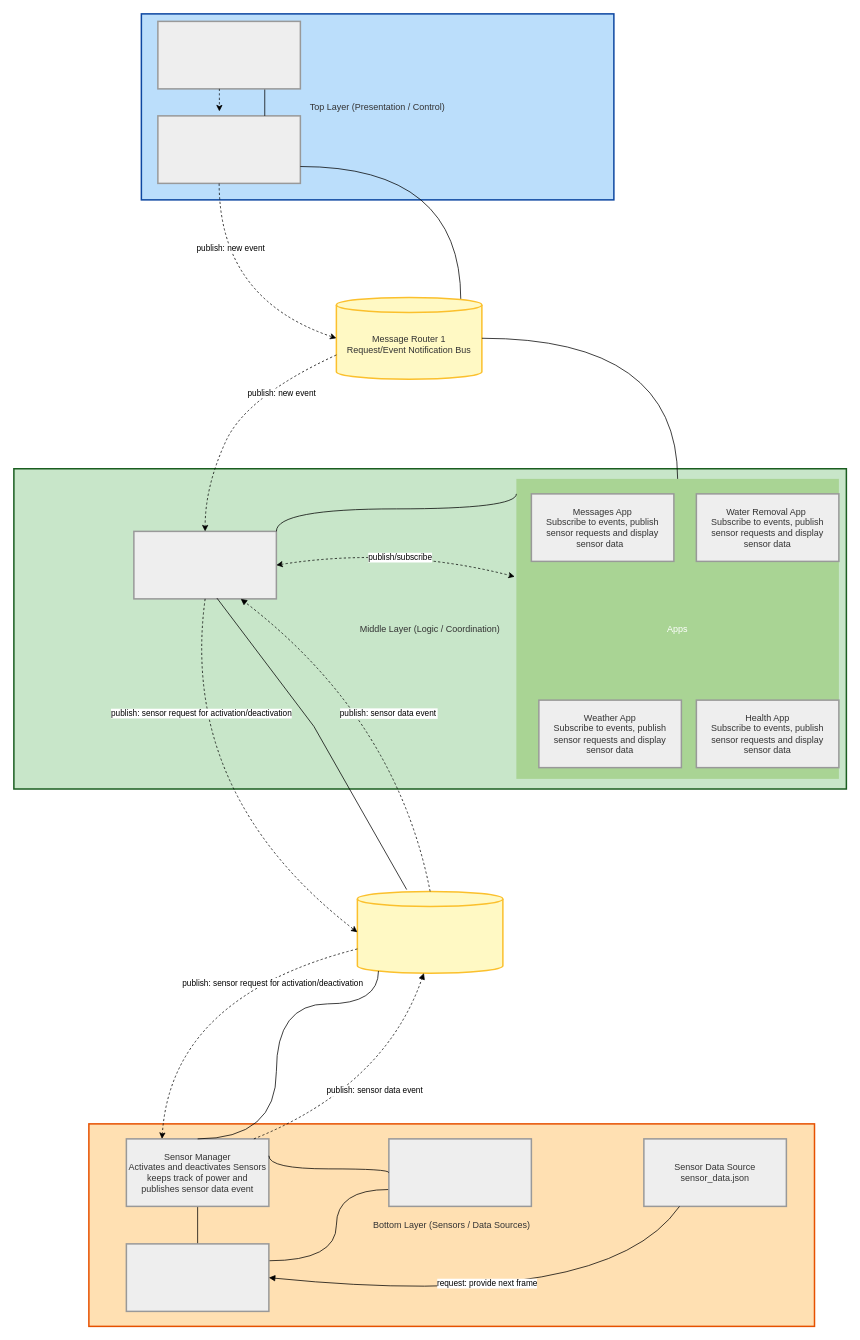
The diagram is 860 pixels wide and 1340 high, and some of its shapes have lost their labels. The shapes that lost their labels are listed below. From the top down, each one's centre as x and y in pixels, then its label:
pixel 229 54: UI/Flutter App
pixel 229 149: Client Sends UI Commands to publish Events
pixel 205 564: Event Bus Broadcasts events
pixel 429 932: Message Router 2 Request/Event Notification Bus
pixel 460 1172: Sensors
pixel 197 1277: Sensor Loader Loads JSON sensor snapshots and converts to sensor values
